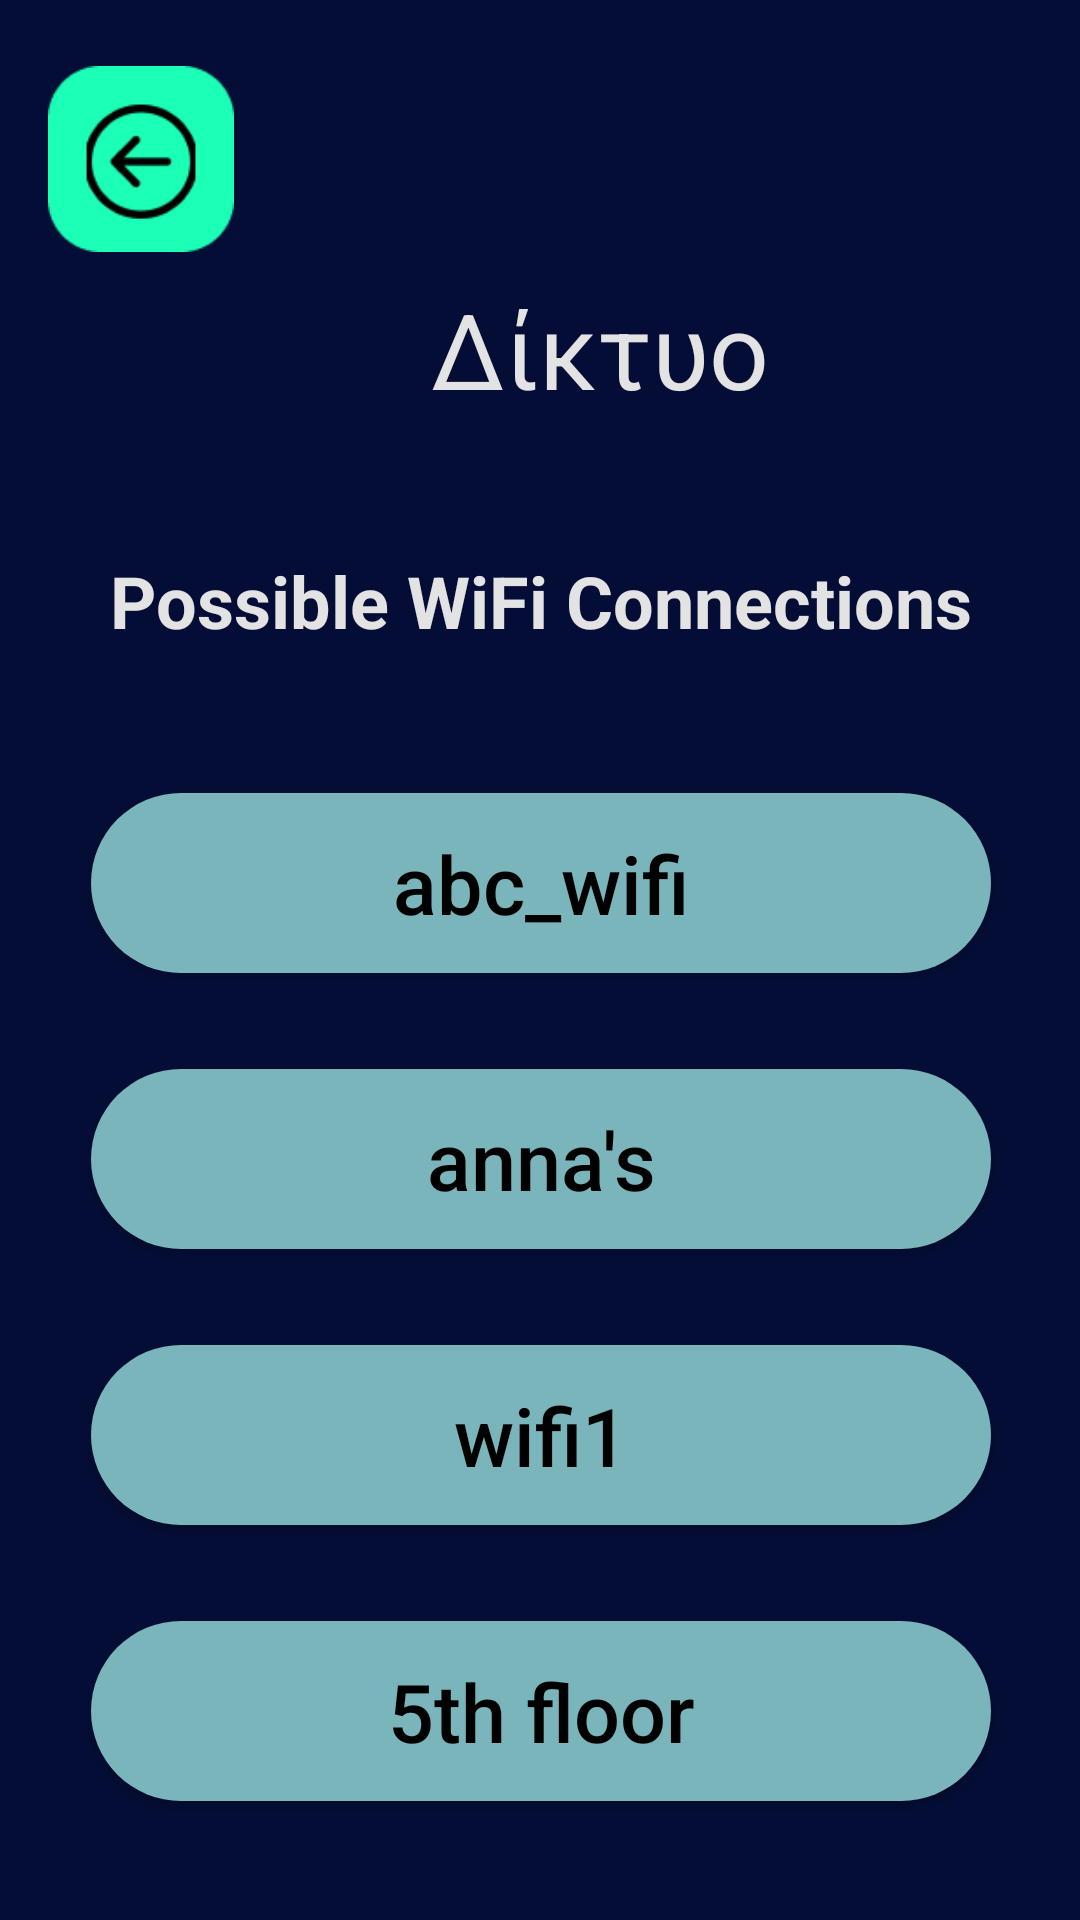

Named icons in this screenshot (1080px x 1920px) and their centers, (x=x, y=y):
back: (x=141, y=159)
